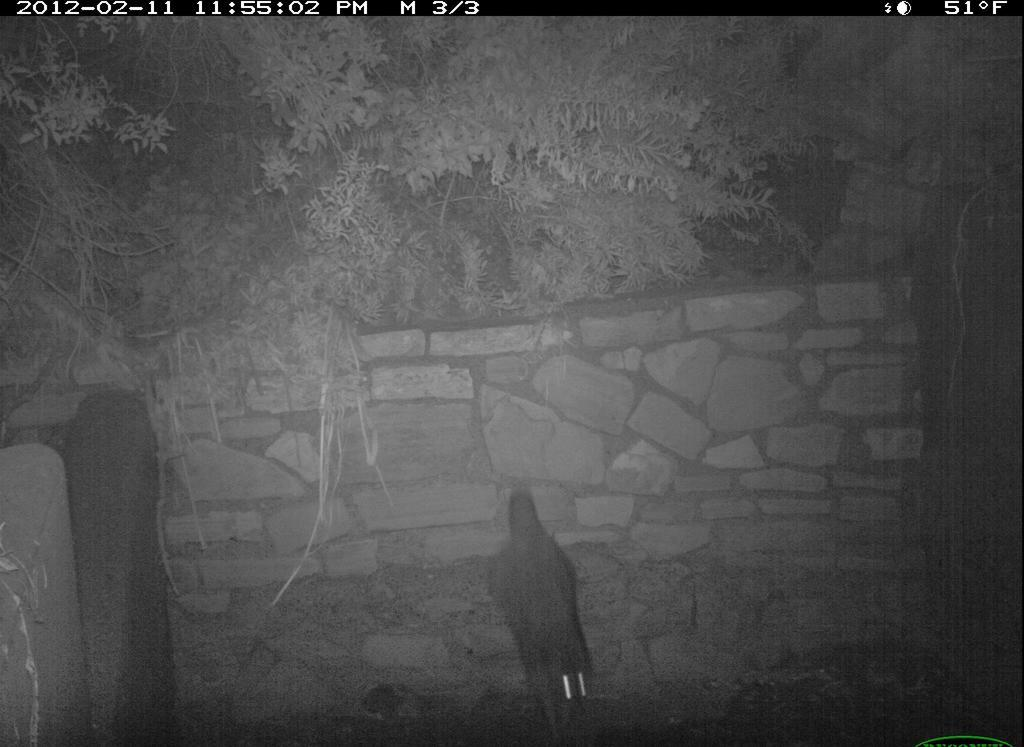raccoon: (479, 477, 602, 734)
